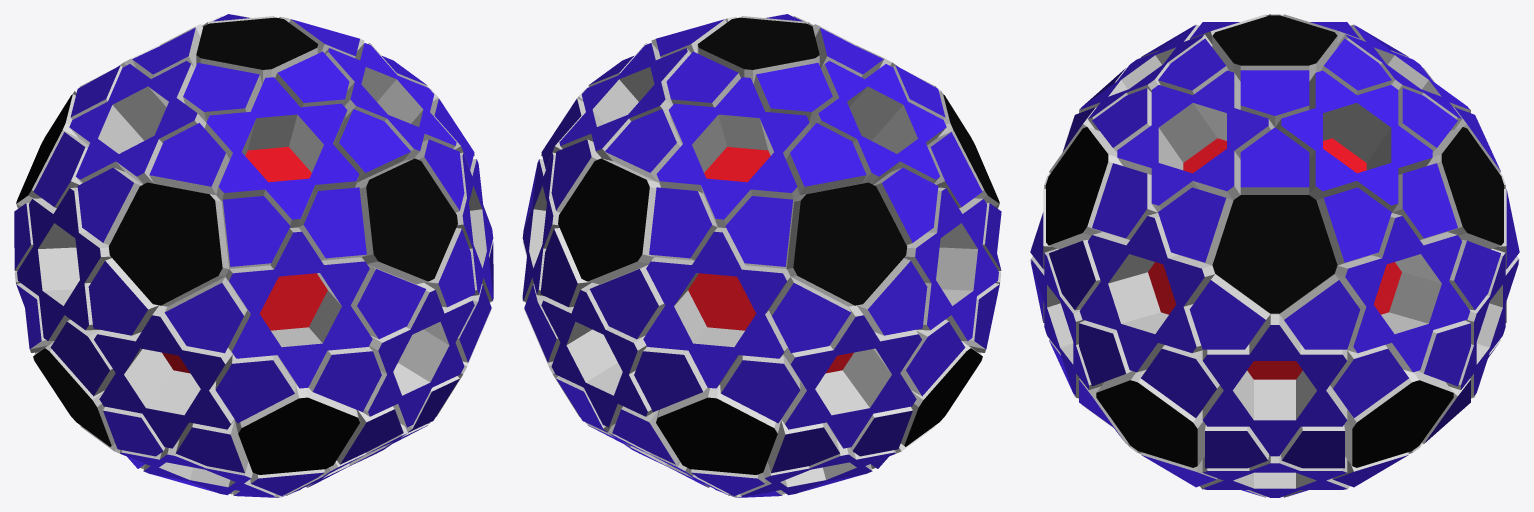
Rendered from Ball.fbx.
3 views of the same model, side by side, from view 1: azimuth 30°, elevation 25°; view 2: azimuth 150°, elevation 25°; view 3: azimuth 270°, elevation 25° (orthographic).
Parts seen in each view (by area): view 1: ICO球; view 2: ICO球; view 3: ICO球.
Boxes of the visible parts, x1,y1,x2,y2 form: ICO球: [14, 14, 493, 497]; ICO球: [522, 14, 1001, 497]; ICO球: [1030, 14, 1519, 497].
Size of the model in its own units: 181 by 184 by 177.
